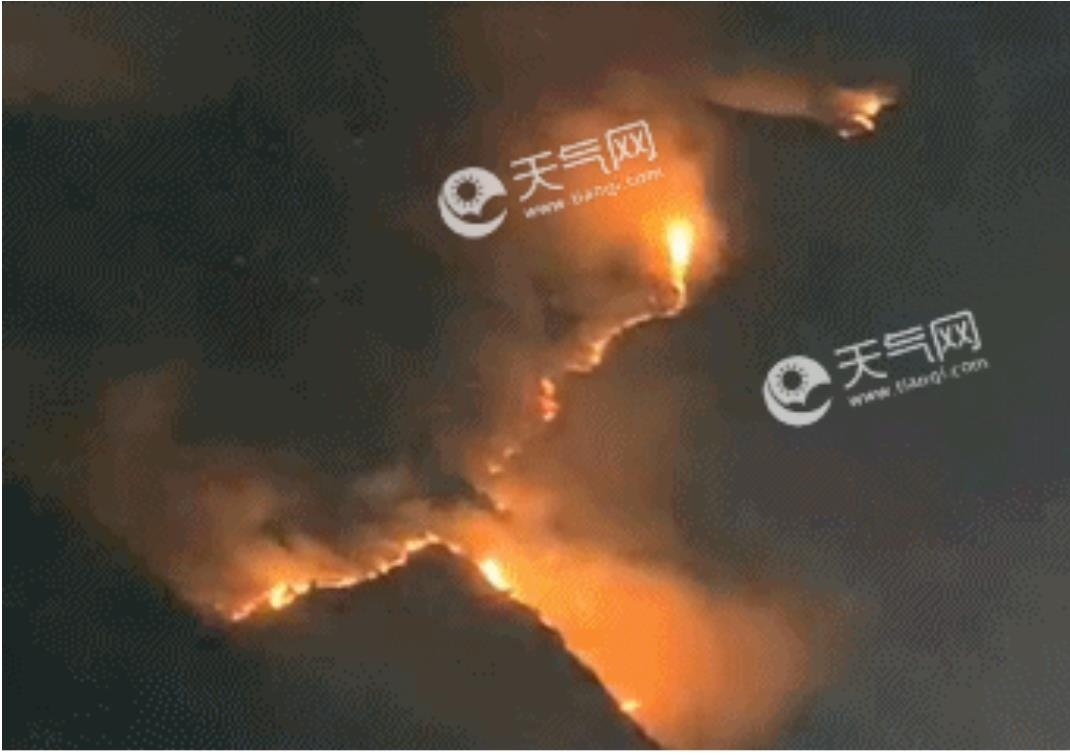fire: (218, 531, 654, 721), (468, 214, 700, 471), (823, 77, 892, 140)
